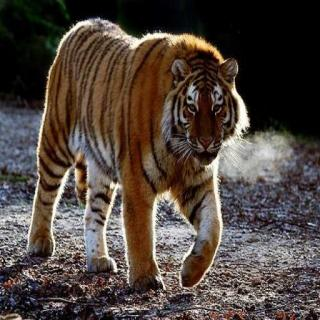Tiger: (25, 15, 251, 296)
